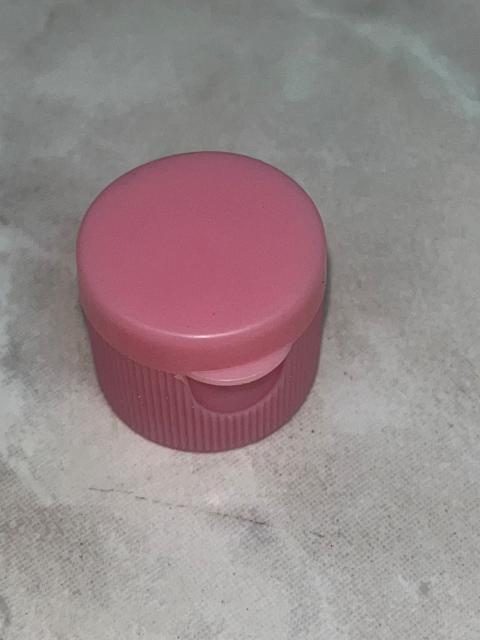HDPE: (30, 98, 385, 502)
